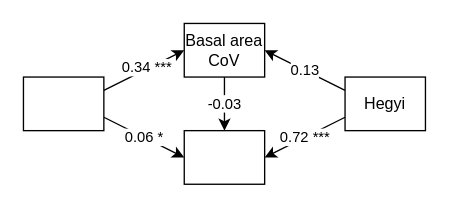
The diagram is 449 pixels wide and 208 high, and some of its shapes have lost their labels. Each missing label, with the box of its shape:
Canopy closure: (183, 129, 265, 184)
Richness: (22, 76, 104, 131)
